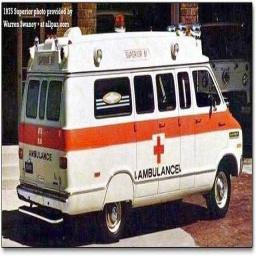ambulance: (17, 27, 241, 240)
